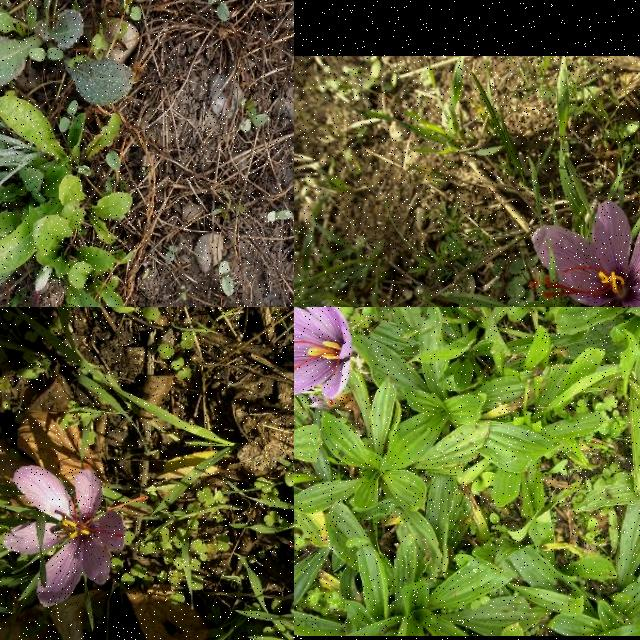flower: (5, 467, 148, 608), (528, 200, 640, 307), (294, 307, 353, 407)
